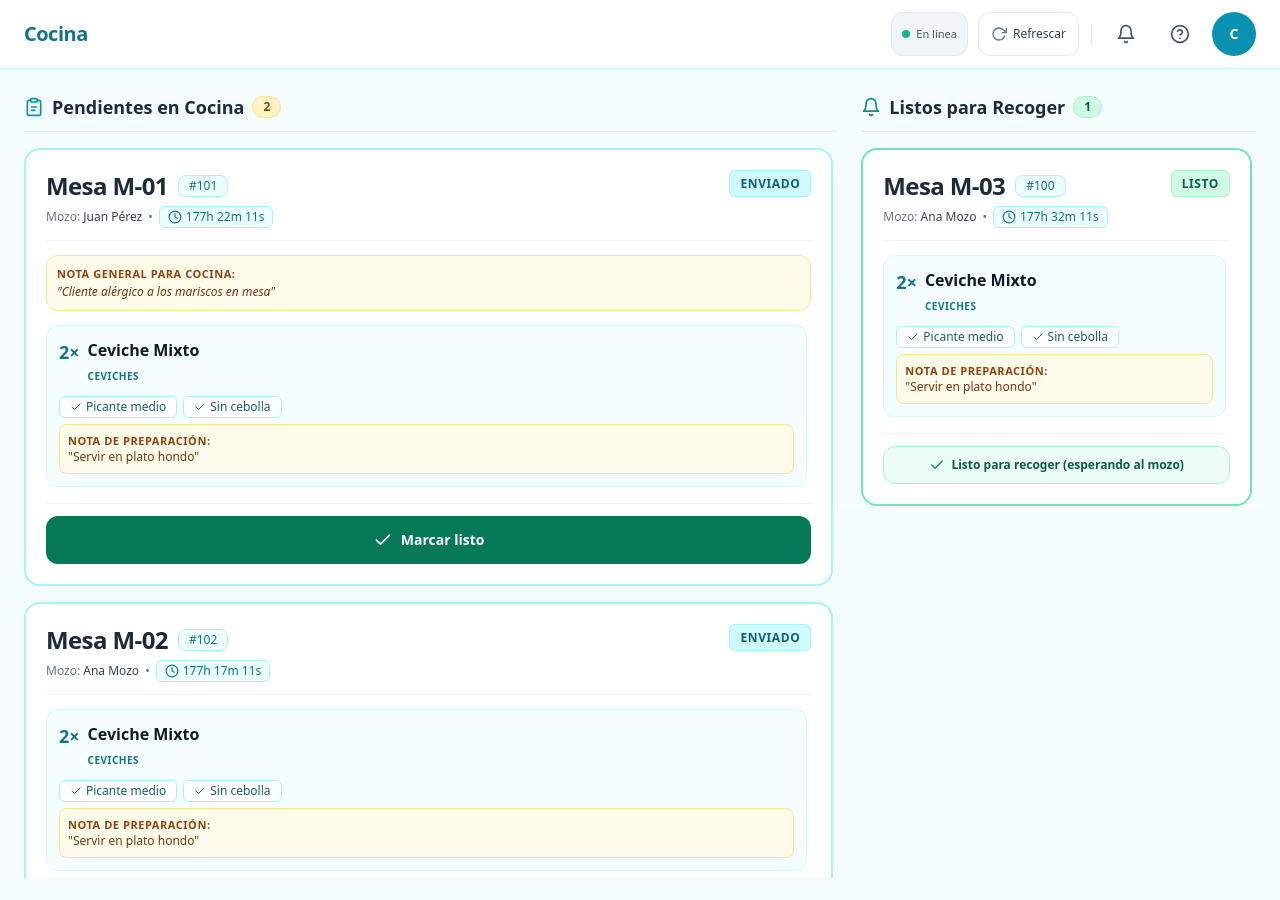
it: Kitchen Flow (Spec 004 KDS) › single touch "Marcar listo" transitions order to ready with anti double-tap lock
Later steps or results of the test are not shown.
Expected: the heading "Mesa M-01" is shown, [46, 170, 168, 202]
// Simular doble tap rápido
Click the button "Marcar listo": x=429, y=540 [46, 516, 811, 564]
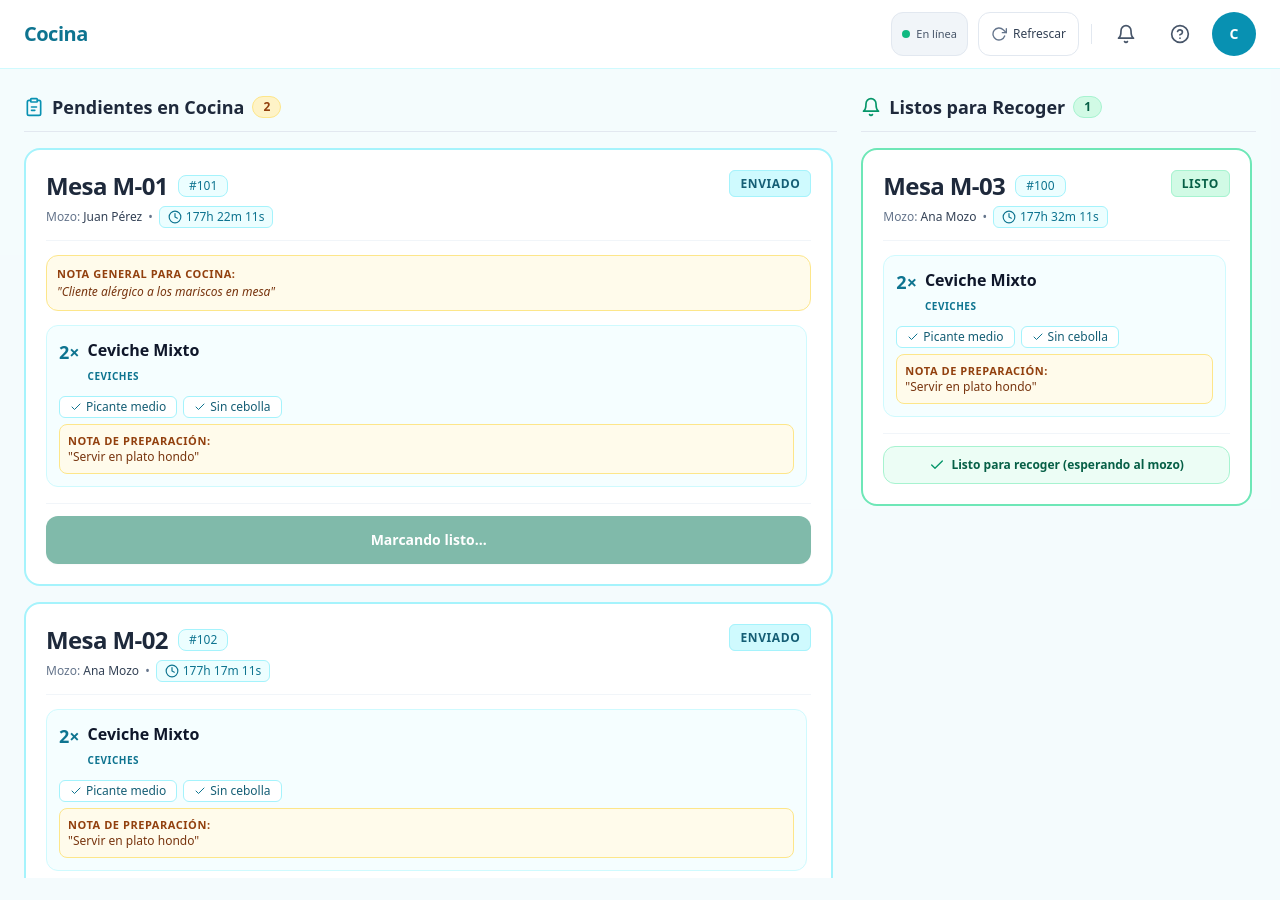
Click the button named "Marcar listo": x=429, y=540 [46, 516, 811, 564]
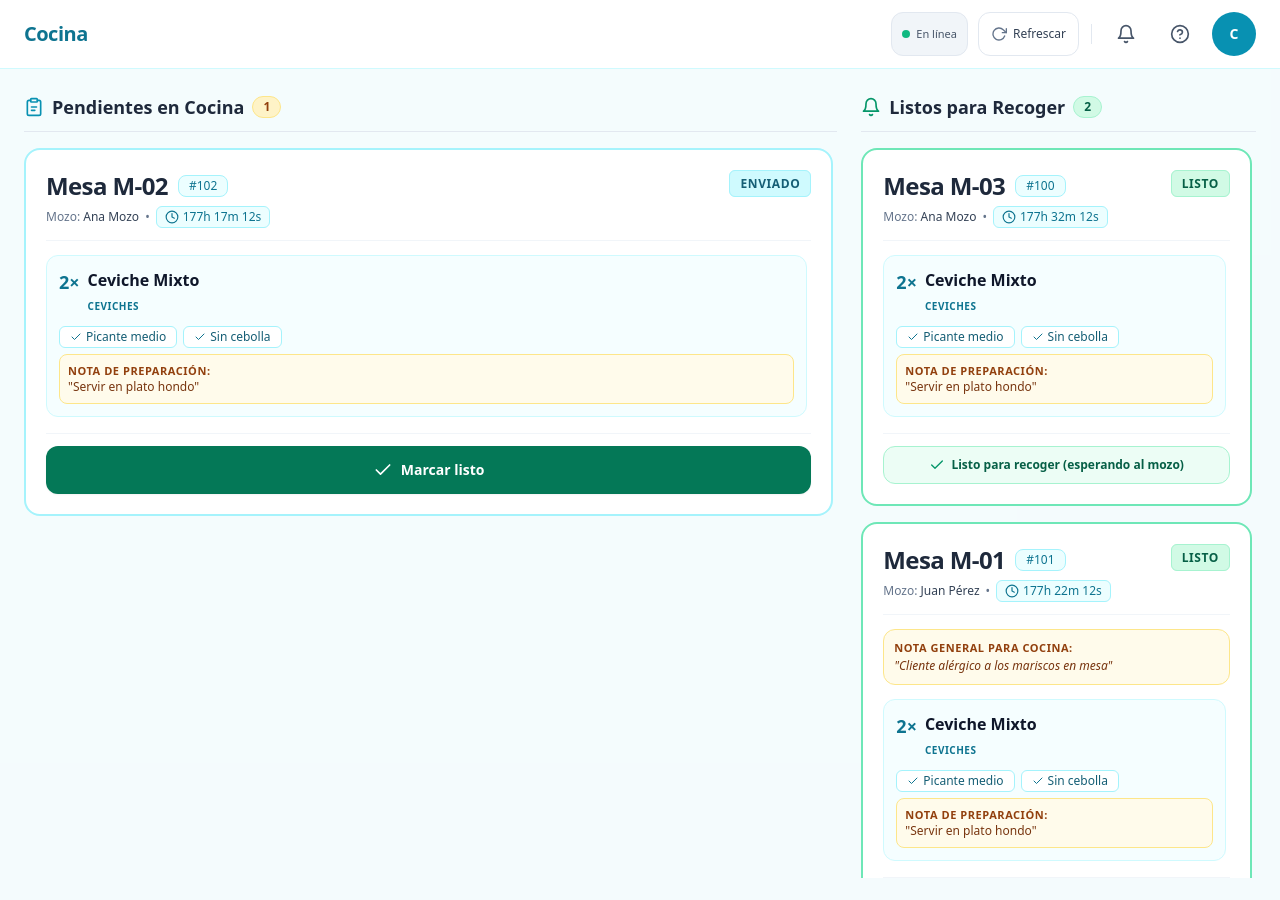
Expected: the text with test id "pending-counter" reads "1", [263, 98, 270, 115]
Expected: the text with test id "ready-counter" reads "2", [1084, 98, 1091, 115]
